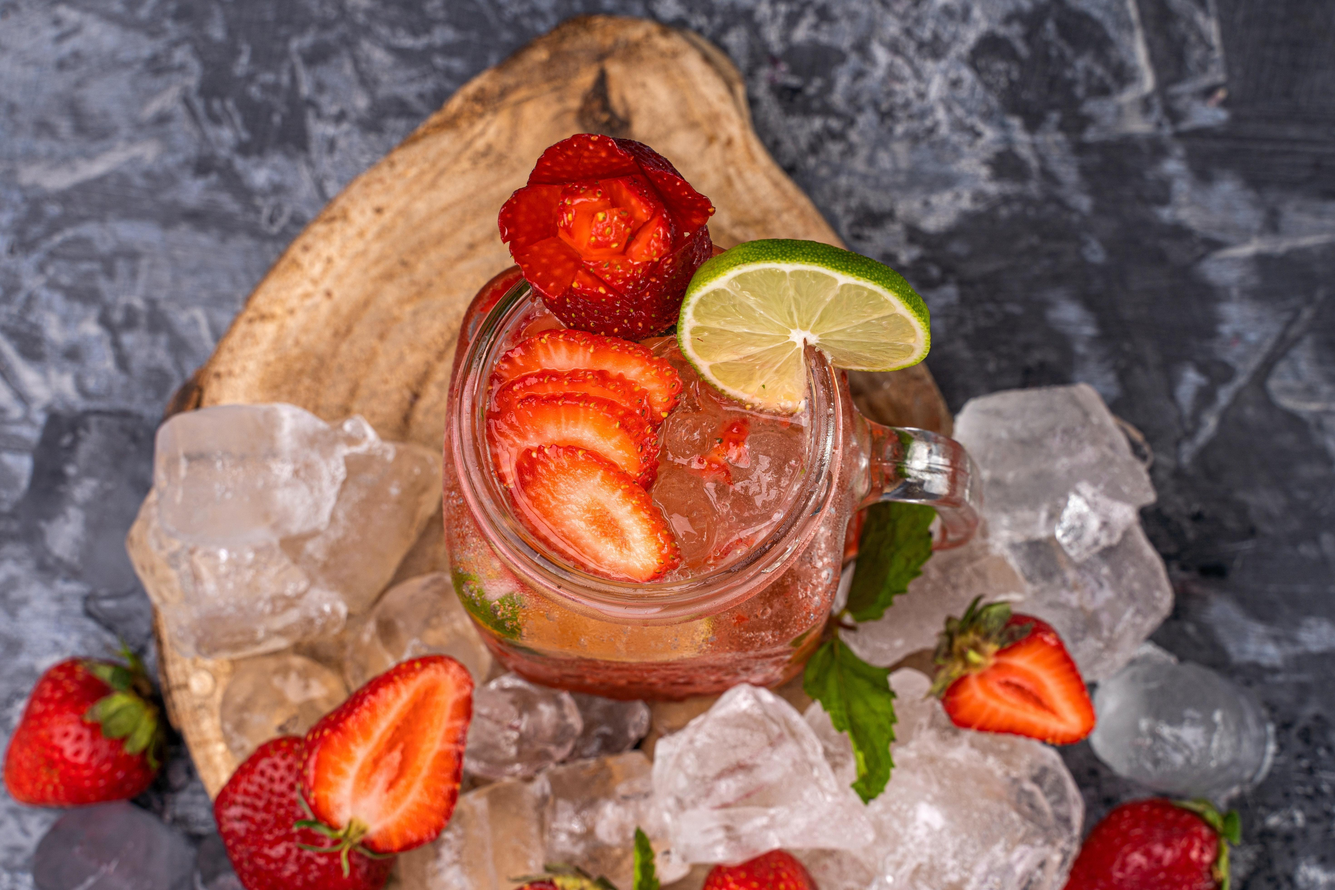glass-mug: (430, 239, 998, 716)
